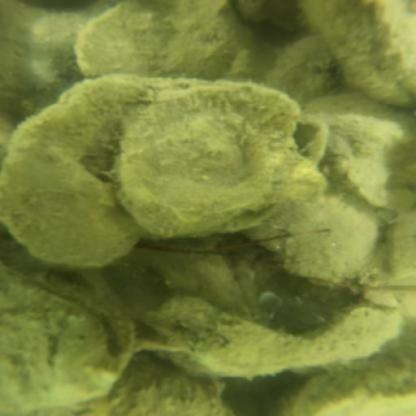3: (117, 84, 325, 239)
Oyster- Indeterminate: (248, 192, 381, 286)
Oyster-Closed: (5, 78, 143, 267), (147, 296, 399, 374), (0, 261, 116, 416), (74, 0, 267, 83), (306, 93, 416, 211), (295, 0, 415, 108), (274, 344, 415, 416), (116, 356, 238, 416), (273, 34, 337, 102)
